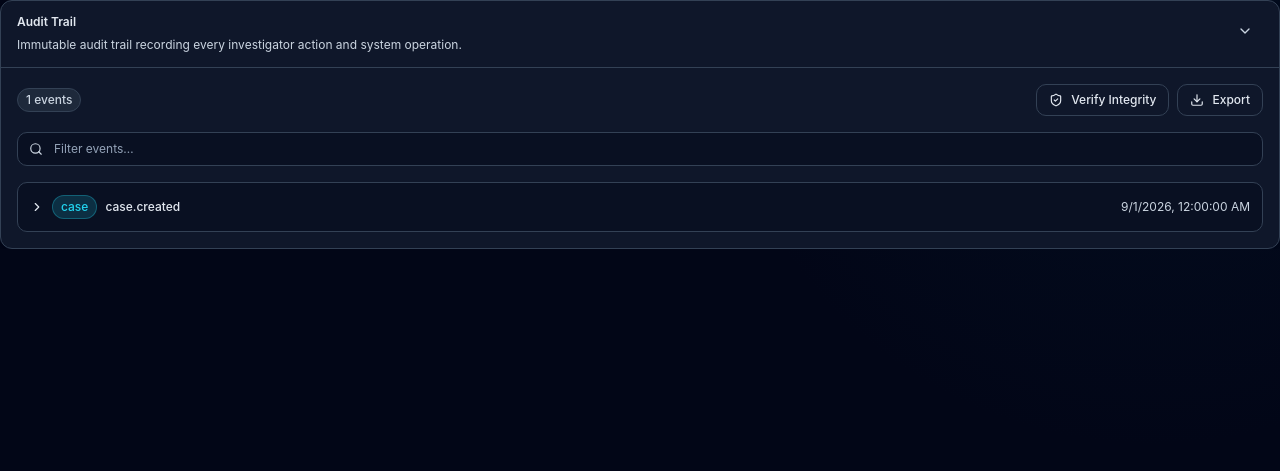
Test: Phase 7E AuditTrailPanel › expands an audit event
This screenshot has width=1280, height=471.
Click the text "case.created".
click(143, 206)  # box [105,198,180,214]
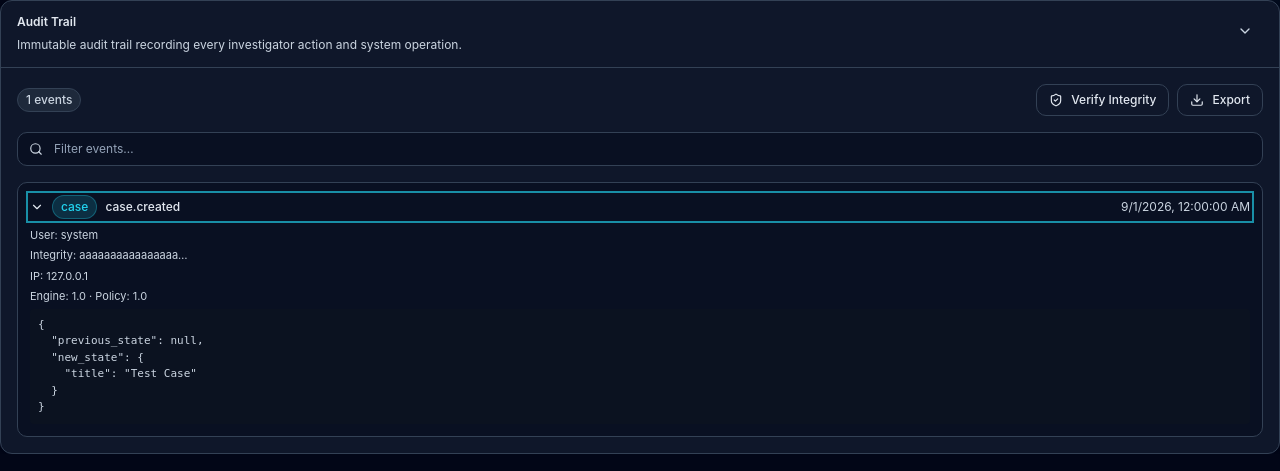
Check: the text "User: system" is shown, box [30,228,98,242]
Check: the text "Integrity:" is shown, box [30,248,76,262]
